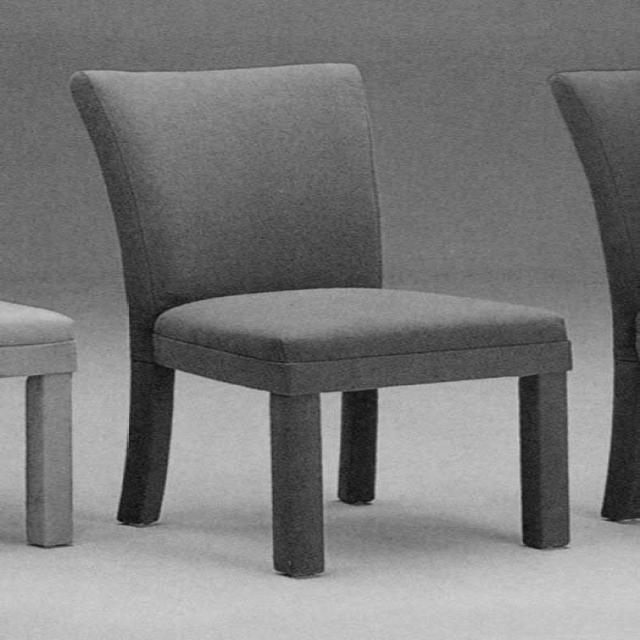chair: (74, 64, 580, 582)
